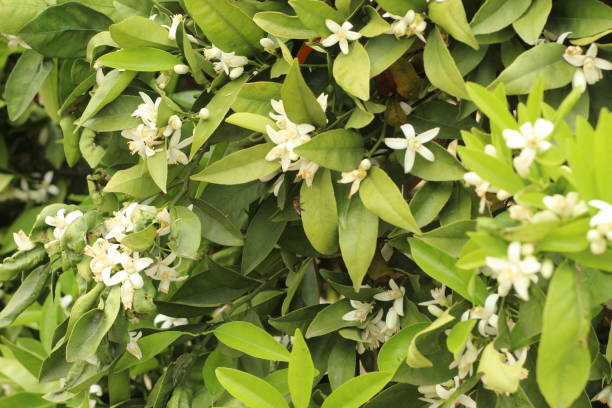flower: (478, 243, 541, 306), (380, 122, 445, 176), (496, 116, 557, 167), (261, 129, 312, 173), (561, 43, 612, 85), (112, 252, 156, 296), (382, 8, 435, 44), (264, 97, 312, 136), (144, 251, 185, 296), (373, 270, 409, 321), (335, 157, 377, 198), (469, 294, 504, 340), (322, 16, 358, 59), (132, 91, 169, 131), (417, 279, 457, 316), (157, 129, 197, 163), (41, 207, 81, 239), (119, 124, 156, 158), (546, 189, 581, 224), (588, 201, 611, 254), (341, 297, 375, 331), (420, 381, 464, 407), (100, 215, 134, 247), (29, 168, 58, 202), (6, 223, 34, 254), (149, 210, 172, 241)
